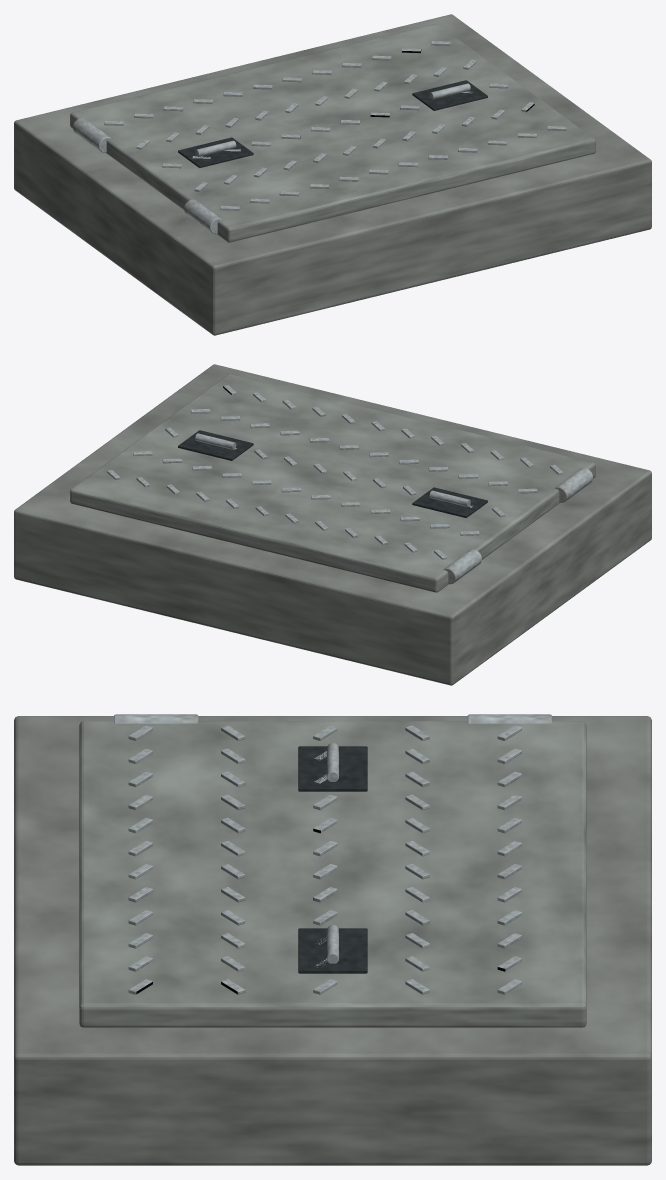
Rendered from GR_AccessHatch_03.glb.
The picture shows the model from 3 angles, top to bottom: view 1: azimuth 30°, elevation 25°; view 2: azimuth 150°, elevation 25°; view 3: azimuth 270°, elevation 25°; orthographic projection. The views are drawn at different scales.
Parts seen in each view (by area): view 1: Static; view 2: Static; view 3: Static.
Boxes of the visible parts, x1,y1,x2,y2 form: Static: (14,14,651,335); Static: (14,364,651,685); Static: (14,714,651,1165).
Bounding box in the file's own units: 1.05 × 0.213 × 0.83.
Materials: 1 (1 with a texture image).
